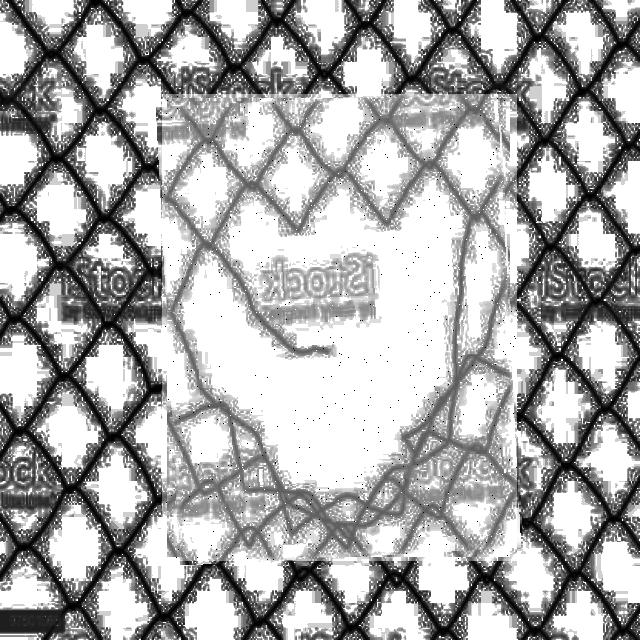anomaly-fence: (162, 94, 517, 561)
